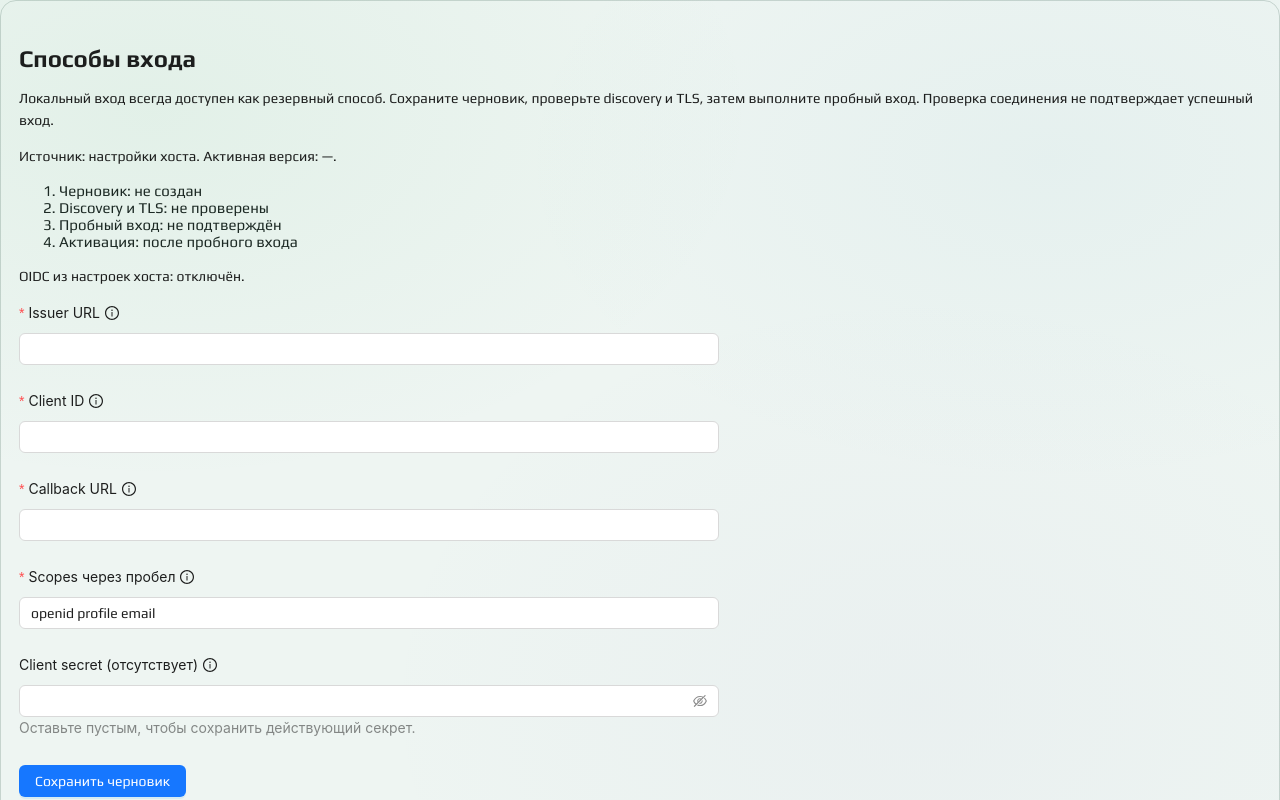
Scenario: treats a malformed successful OIDC mutation response as an unknown outcome
Check: the text "Источник: настройки хоста. Активная версия: —." is shown, box [19, 148, 337, 164]
Type "https://id.example.test" into the field labelled "Issuer URL" at (369, 349), box [19, 333, 719, 365]
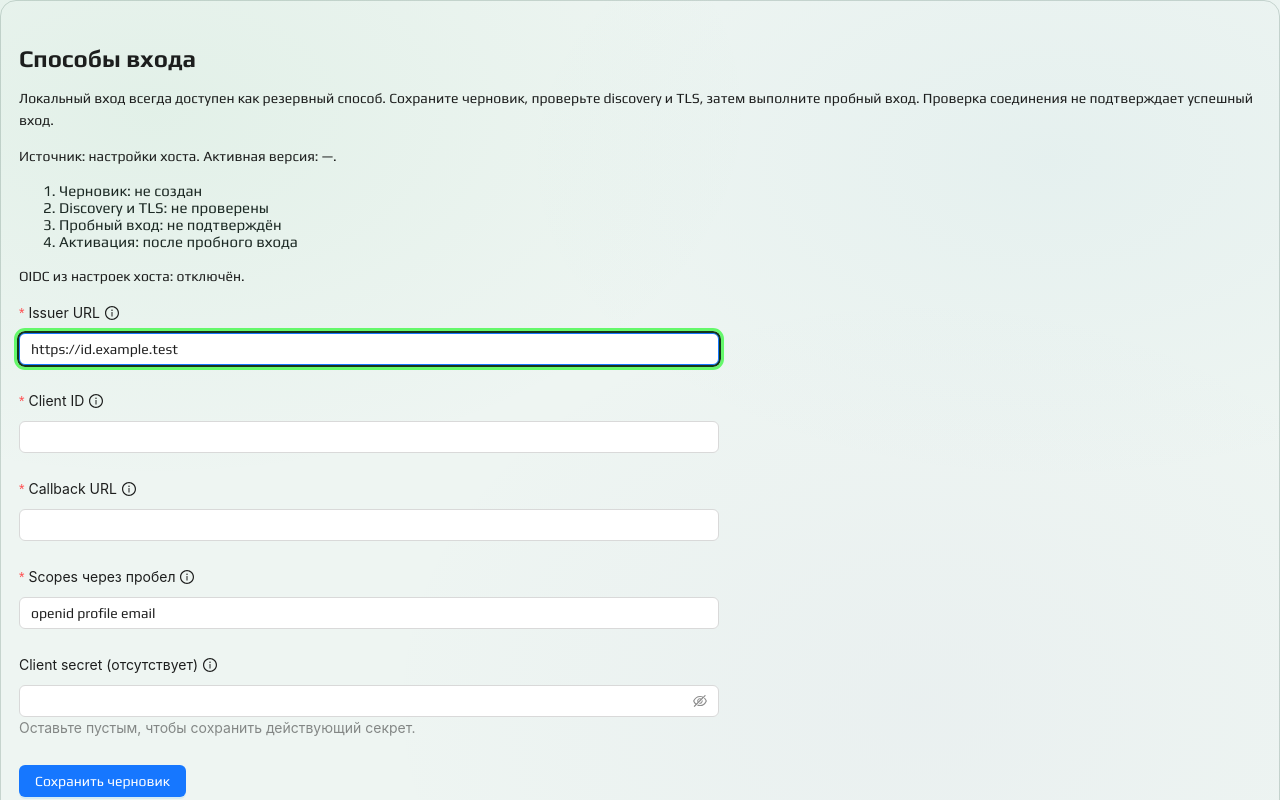
Type "client" into the field labelled "Client ID" at (369, 437), box [19, 421, 719, 453]
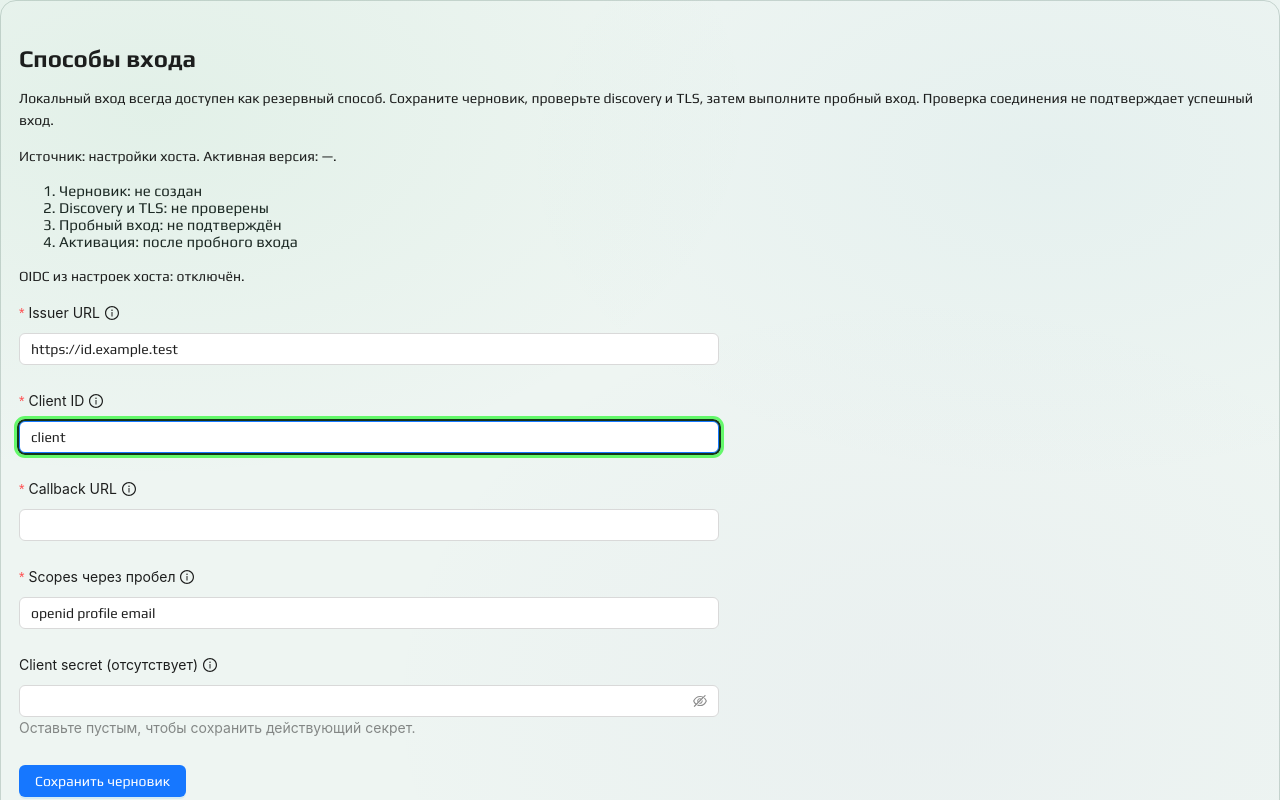
Type "http://localhost:8080/api/v1/auth/oidc/callback" into the field labelled "Callback URL" at (369, 525), box [19, 509, 719, 541]
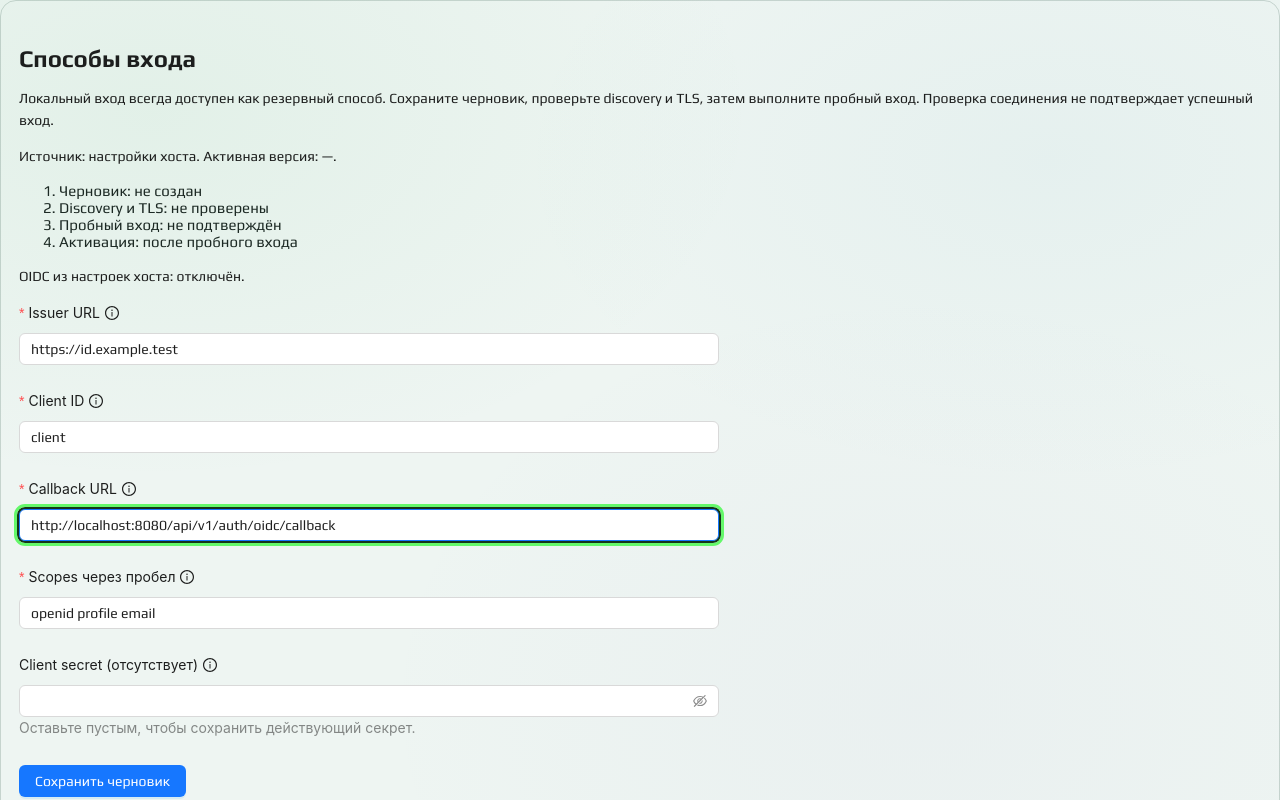
Click the button "Сохранить черновик" at (102, 781), box [19, 765, 186, 797]
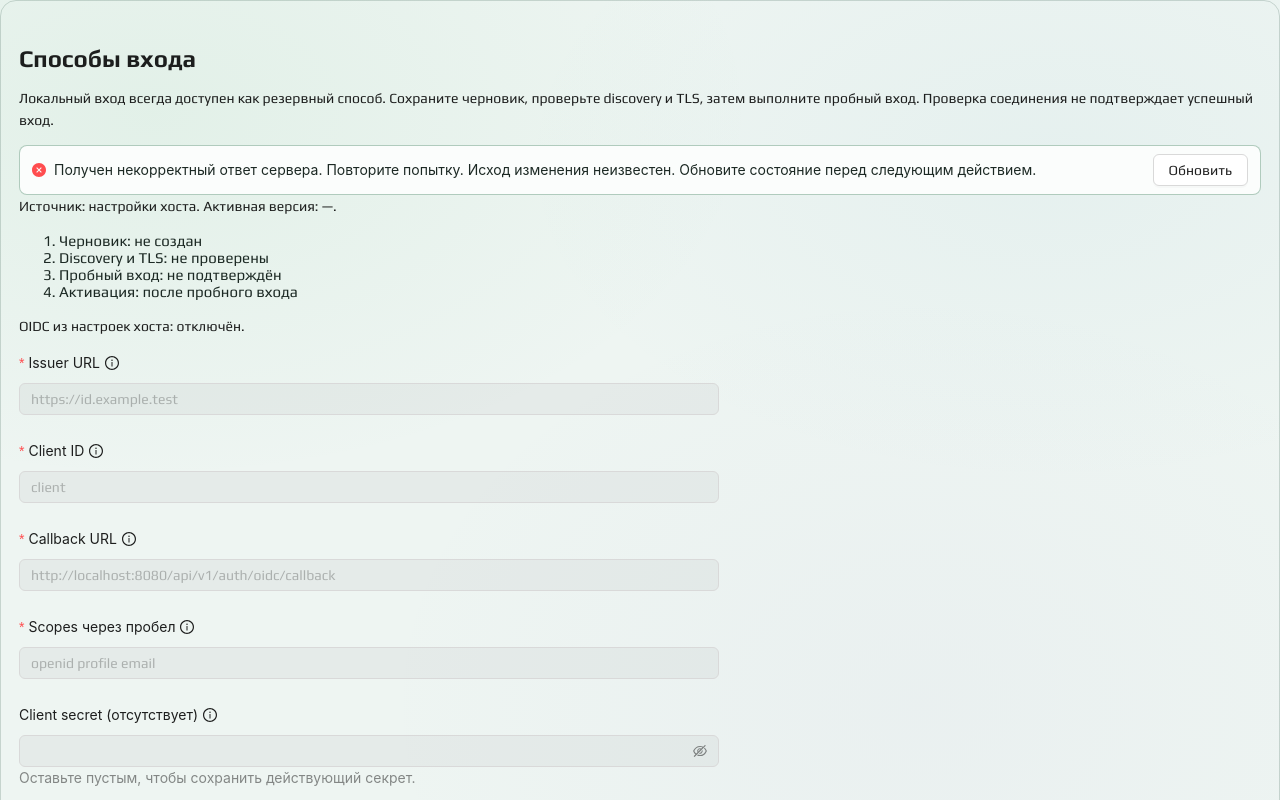
Check: the text "Исход изменения неизвестен" is shown, box [54, 161, 1036, 178]
Check: the field labelled "Client ID" is disabled, box [19, 471, 719, 503]
